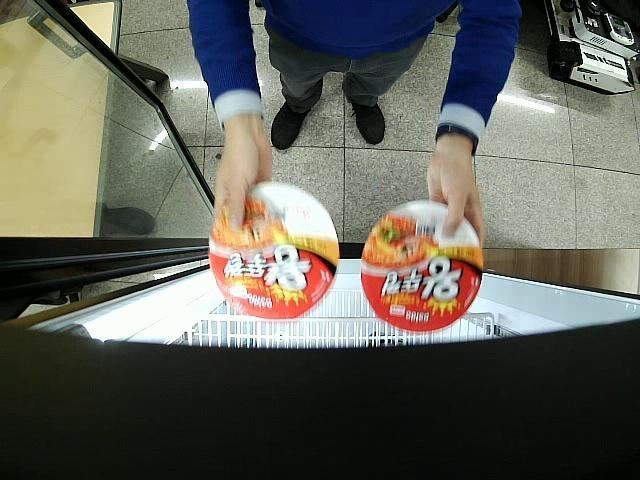10_wangTtukkeong: (209, 181, 340, 319), (361, 200, 484, 332)
